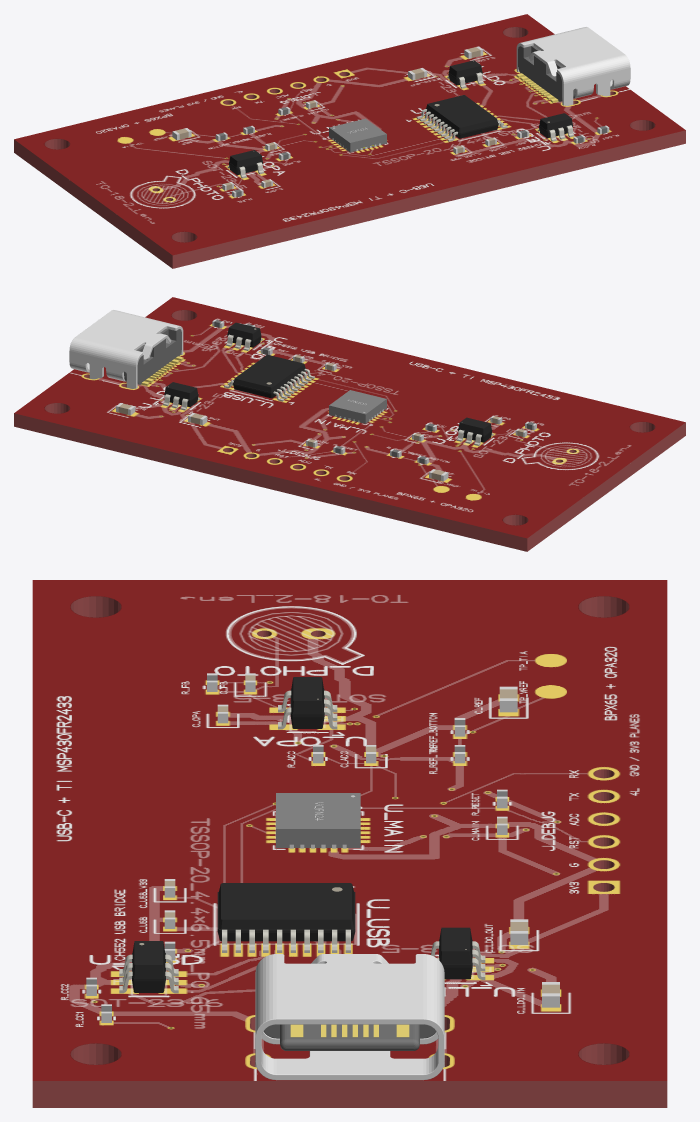
The picture shows the model from 3 angles, top to bottom: view 1: azimuth 30°, elevation 25°; view 2: azimuth 150°, elevation 25°; view 3: azimuth 270°, elevation 25°; orthographic projection. The views are drawn at different scales.
Visible parts, largest first — view 1: Box0, J1, U_USB, U_MAIN, U_ESD, U_LDO, U_OPA; view 2: Box0, J1, U_USB, U_MAIN, U_ESD, U_LDO, U_OPA; view 3: Box0, J1, U_USB, U_MAIN, U_ESD, U_OPA, U_LDO.
Part boxes in pixels (x1,y1,x2,y2): Box0: (14, 14, 685, 268); J1: (516, 27, 630, 105); U_USB: (416, 95, 507, 141); U_MAIN: (329, 118, 386, 152); U_ESD: (537, 113, 574, 141); U_LDO: (447, 60, 483, 88); U_OPA: (227, 150, 264, 178); Box0: (14, 297, 685, 551); J1: (69, 310, 183, 388); U_USB: (224, 354, 314, 401); U_MAIN: (329, 390, 386, 423); U_ESD: (226, 322, 262, 350); U_LDO: (163, 382, 199, 410); U_OPA: (456, 417, 493, 445); Box0: (32, 580, 667, 1107); J1: (255, 954, 444, 1080); U_USB: (217, 883, 355, 952); U_MAIN: (275, 793, 360, 848); U_ESD: (119, 941, 178, 993); U_OPA: (278, 677, 337, 729); U_LDO: (431, 927, 485, 979).
Size of the model in its own units: 56.04 by 4.65 by 30.
Materials: 18 (2 with a texture image).
